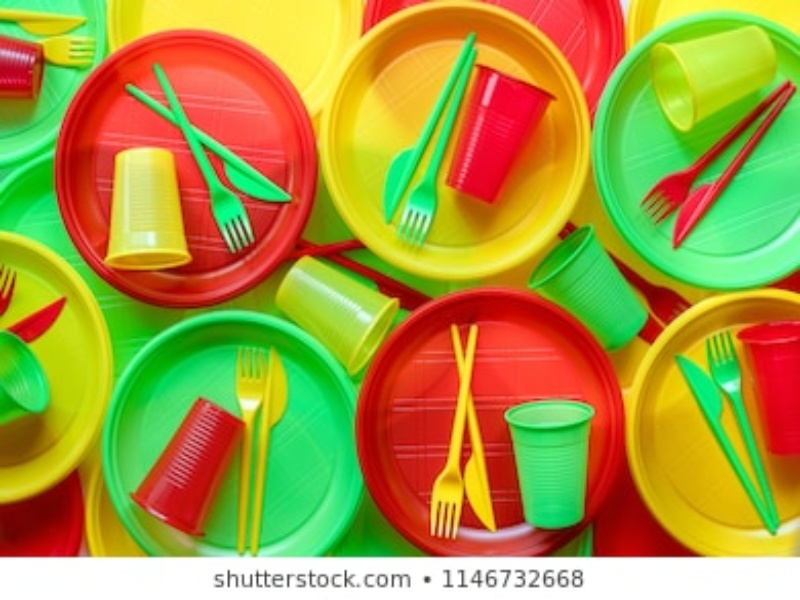plastic-cup: (127, 394, 254, 542), (443, 62, 565, 205), (639, 23, 787, 132), (272, 253, 398, 381), (526, 223, 649, 352), (500, 397, 593, 532), (102, 146, 194, 271), (737, 314, 800, 457), (1, 328, 46, 427), (1, 31, 44, 100)
plastic-plate: (318, 1, 592, 283), (51, 27, 318, 309), (353, 288, 627, 556), (103, 310, 359, 558), (593, 12, 800, 290), (628, 288, 800, 554)
plastic-silverware: (121, 73, 294, 205), (147, 60, 257, 253), (664, 352, 778, 538), (641, 82, 787, 226), (380, 28, 485, 224), (673, 87, 798, 251), (698, 332, 788, 533), (394, 45, 484, 245), (426, 318, 482, 541), (443, 320, 502, 531), (248, 341, 285, 554), (233, 343, 265, 556)
